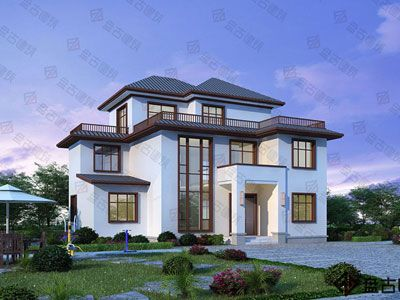buildings: (55, 83, 339, 253)
